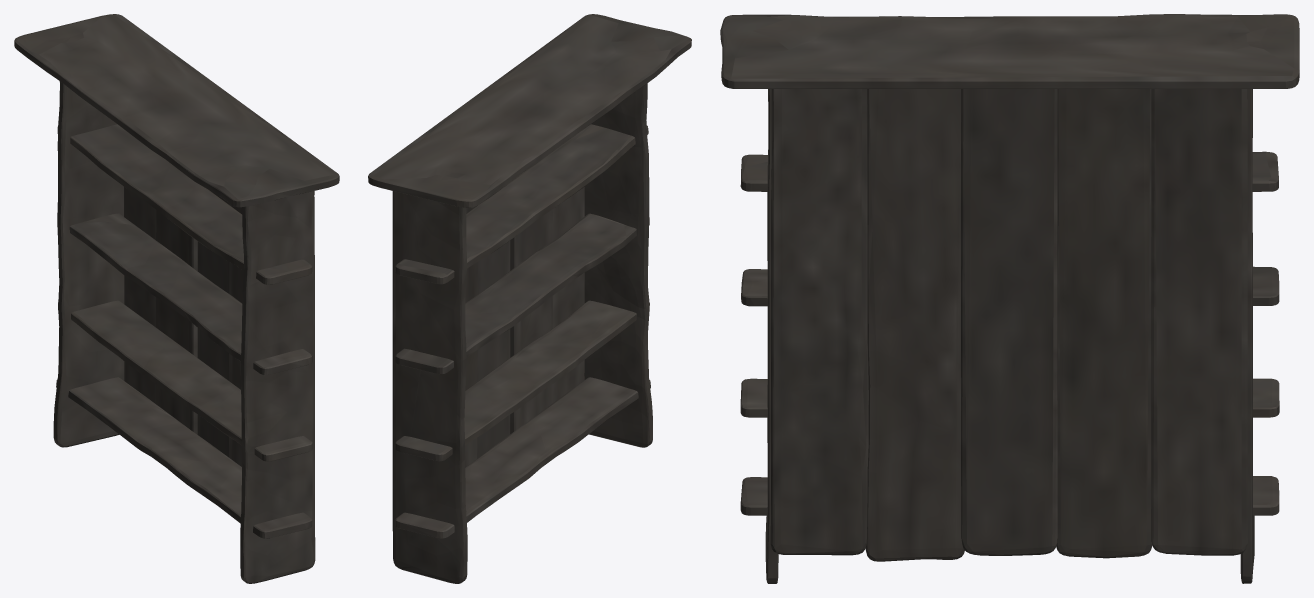
Rendered from Shelf_02.fbx.
3 views of the same model, side by side, from view 1: azimuth 30°, elevation 25°; view 2: azimuth 150°, elevation 25°; view 3: azimuth 270°, elevation 25° (orthographic). The views are drawn at different scales.
Parts seen in each view (by area): view 1: Shelf_02; view 2: Shelf_02; view 3: Shelf_02.
Boxes of the visible parts, box(x1,y1,x2,y2) form: Shelf_02: box(14, 14, 339, 583); Shelf_02: box(368, 14, 691, 583); Shelf_02: box(720, 14, 1299, 583).
Size of what is drawn, in the model's own units: 58.75 by 210 by 213.
